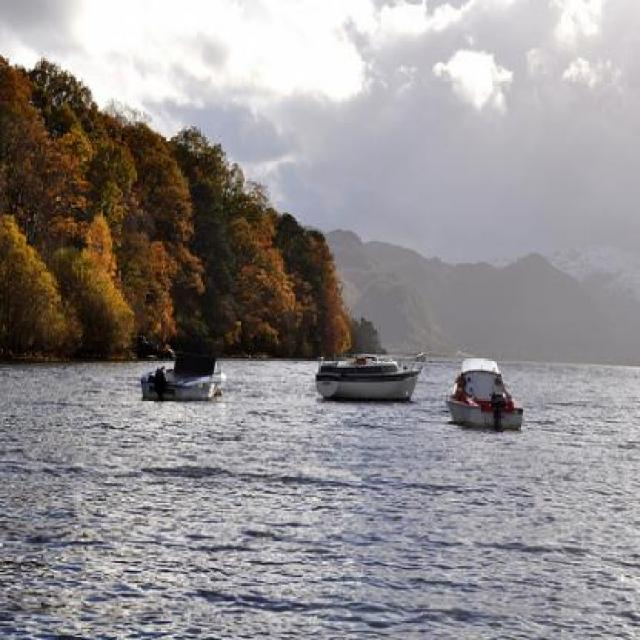ship: (314, 336, 417, 404), (443, 349, 523, 429), (139, 336, 227, 398)
